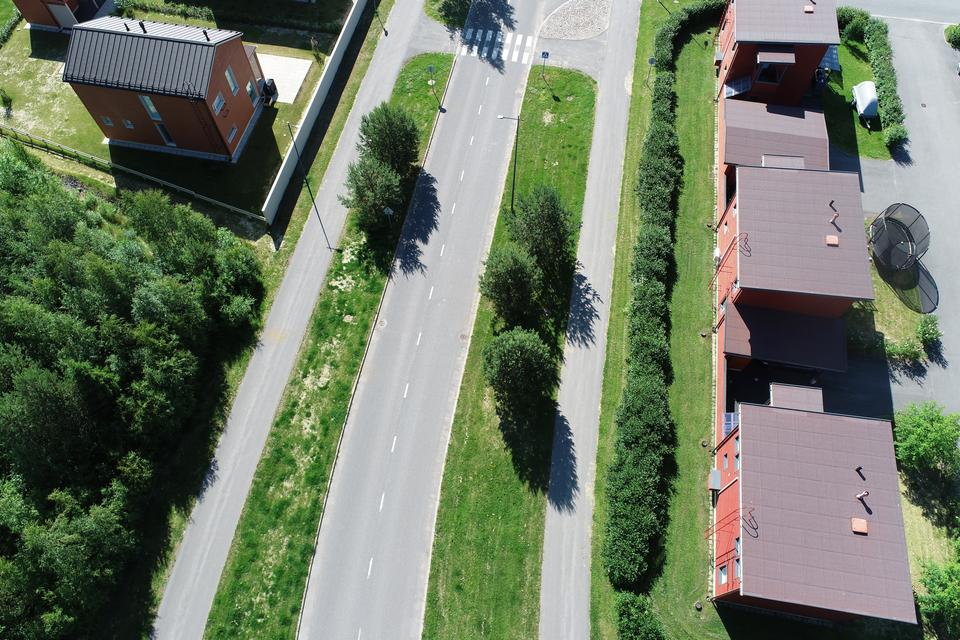intersection: (344, 0, 649, 126)
